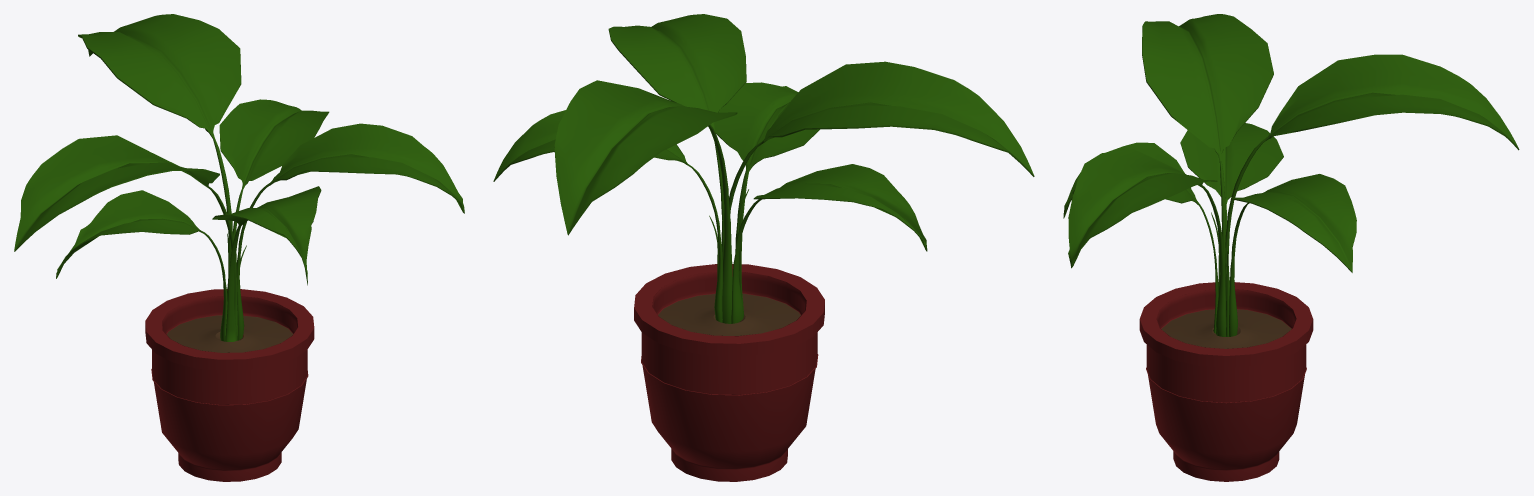
Rendered from potted_plant.glb.
3 views of the same model, side by side, from view 1: azimuth 30°, elevation 25°; view 2: azimuth 150°, elevation 25°; view 3: azimuth 270°, elevation 25° (orthographic). The views are drawn at different scales.
Visible parts, largest first — view 1: polySurface7, pCylinder1; view 2: polySurface7, pCylinder1; view 3: polySurface7, pCylinder1.
Boxes of the visible parts, left/top/right/bottom form: polySurface7: left=14, top=14, right=464, bottom=341; pCylinder1: left=145, top=289, right=314, bottom=481; polySurface7: left=493, top=14, right=1034, bottom=323; pCylinder1: left=634, top=264, right=824, bottom=481; polySurface7: left=1063, top=14, right=1519, bottom=336; pCylinder1: left=1139, top=282, right=1313, bottom=481.
Bounding box in the file's own units: 17.51 × 15.1 × 16.61.
Materials: 3 (1 with a texture image).
